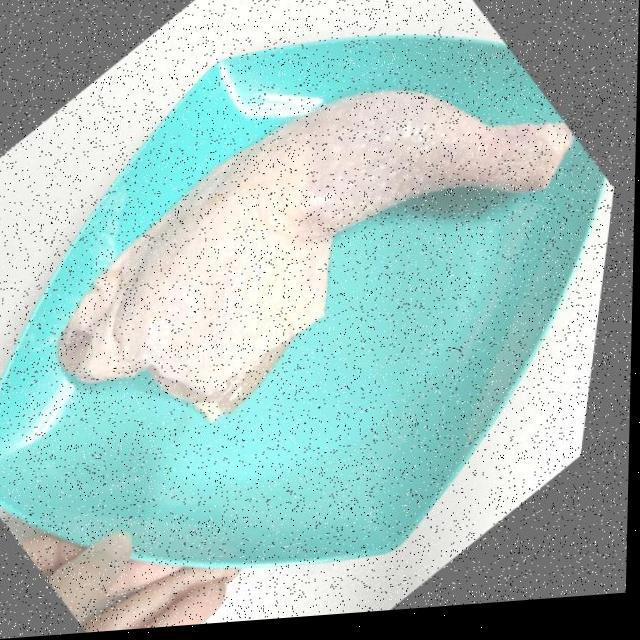quater: (74, 80, 574, 418)
